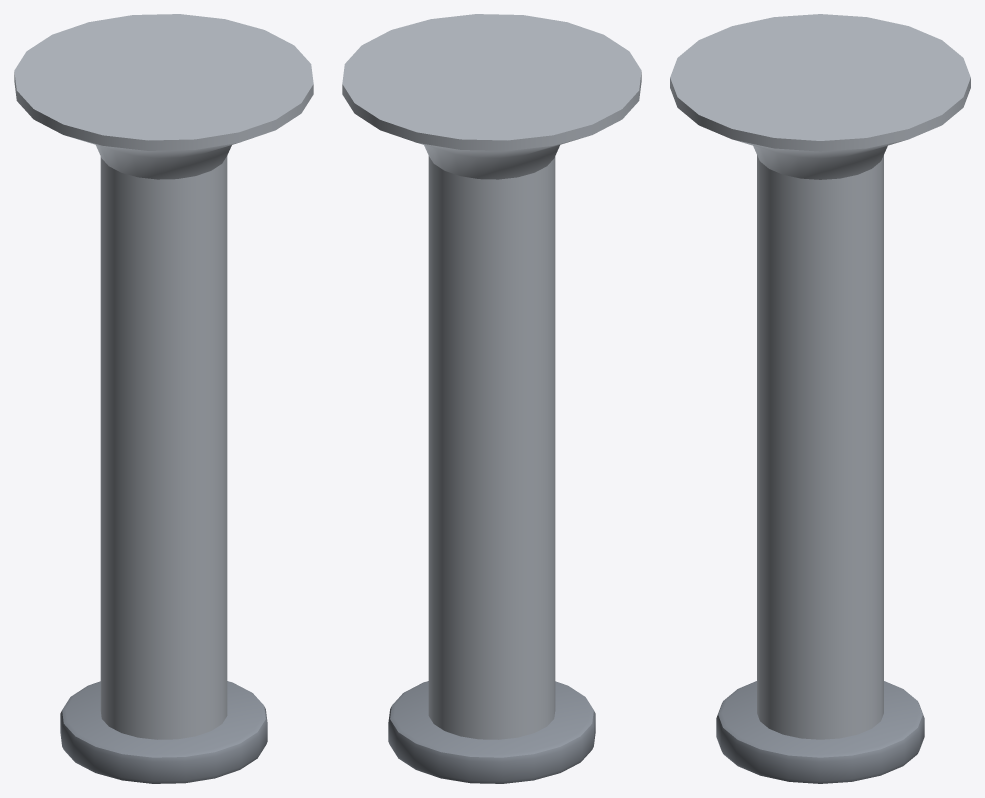
The model's file is pilar_viaduto_redondo.glb.
3 renders of one model, left to right at view 1: azimuth 30°, elevation 25°; view 2: azimuth 150°, elevation 25°; view 3: azimuth 270°, elevation 25°, orthographic.
Parts seen in each view (by area): view 1: pilar_viaduto_redondo; view 2: pilar_viaduto_redondo; view 3: pilar_viaduto_redondo.
Part boxes in pixels (x1,y1,x2,y2): pilar_viaduto_redondo: (14,14,313,783); pilar_viaduto_redondo: (342,14,641,783); pilar_viaduto_redondo: (670,14,970,783).
Size of the model in its own units: 2.6 by 6.34 by 2.6.
Materials: 1 (1 with a texture image).
